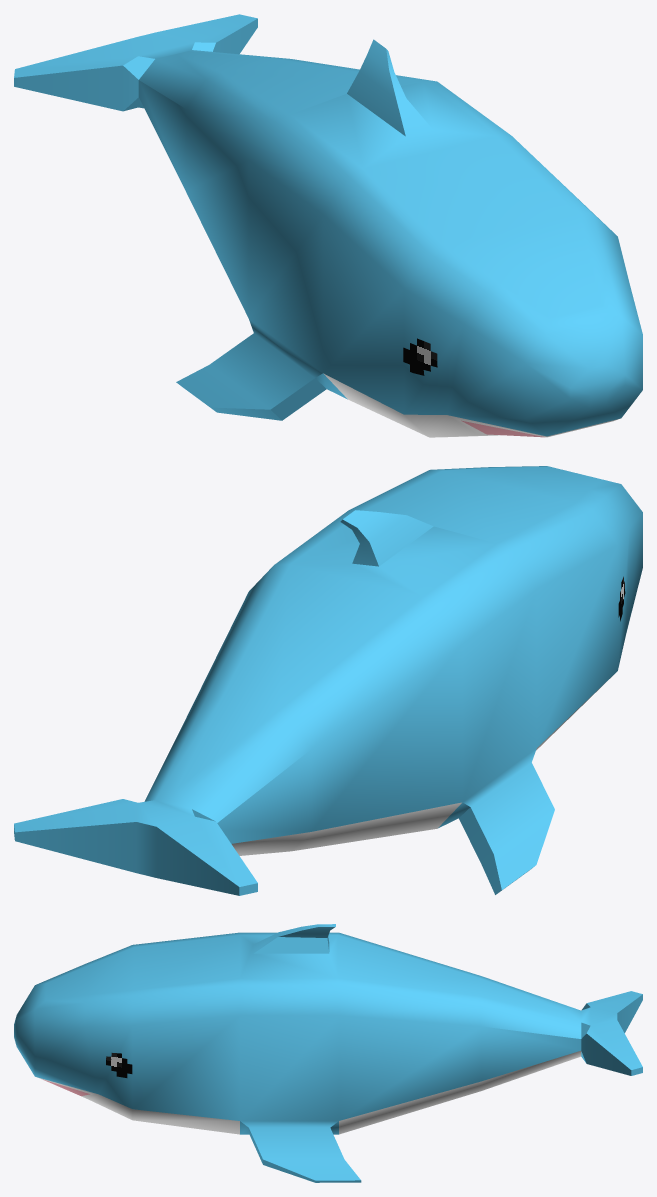
The model's file is Shork.fbx.
The picture shows the model from 3 angles, top to bottom: view 1: azimuth 30°, elevation 25°; view 2: azimuth 150°, elevation 25°; view 3: azimuth 270°, elevation 25°; orthographic projection. The views are drawn at different scales.
Visible parts, largest first — view 1: Shork; view 2: Shork; view 3: Shork.
Part boxes in pixels (bbox=[...]): Shork: bbox=[14, 14, 642, 437]; Shork: bbox=[14, 466, 642, 895]; Shork: bbox=[14, 924, 642, 1182].
Bounding box in the file's own units: 305 × 286 × 766.
Materials: 1 (1 with a texture image).
